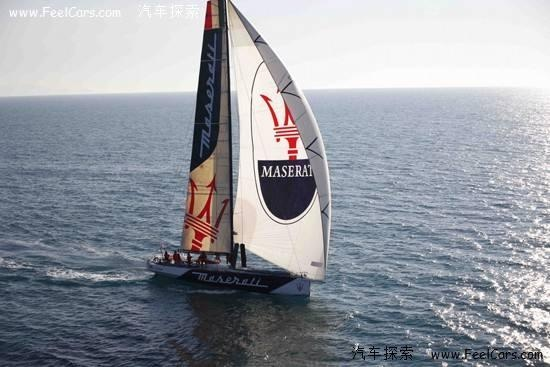fanchuan: (145, 1, 335, 299)
